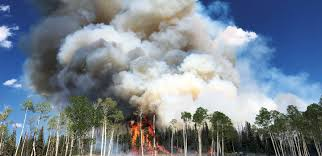smoke: (26, 1, 285, 130)
